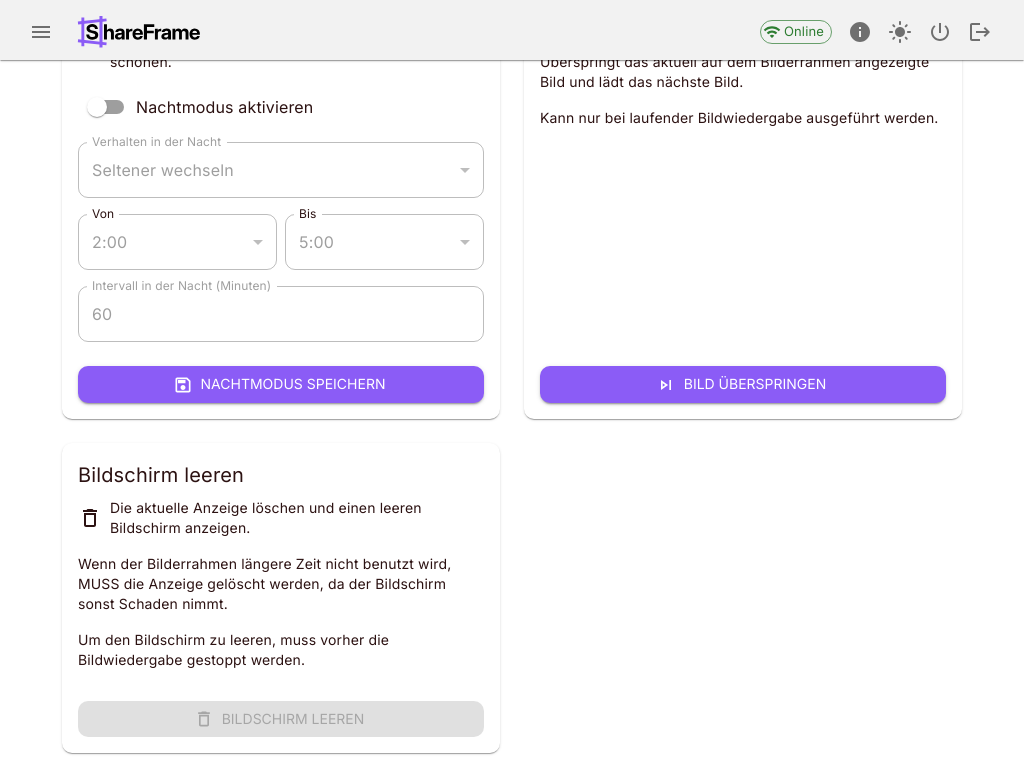
Test: frame actions › skips the current image
The image size is (1024, 768).
(page scrolled)
Click the button "Bild überspringen" at (743, 385), box [540,366,946,403]
(page scrolled)
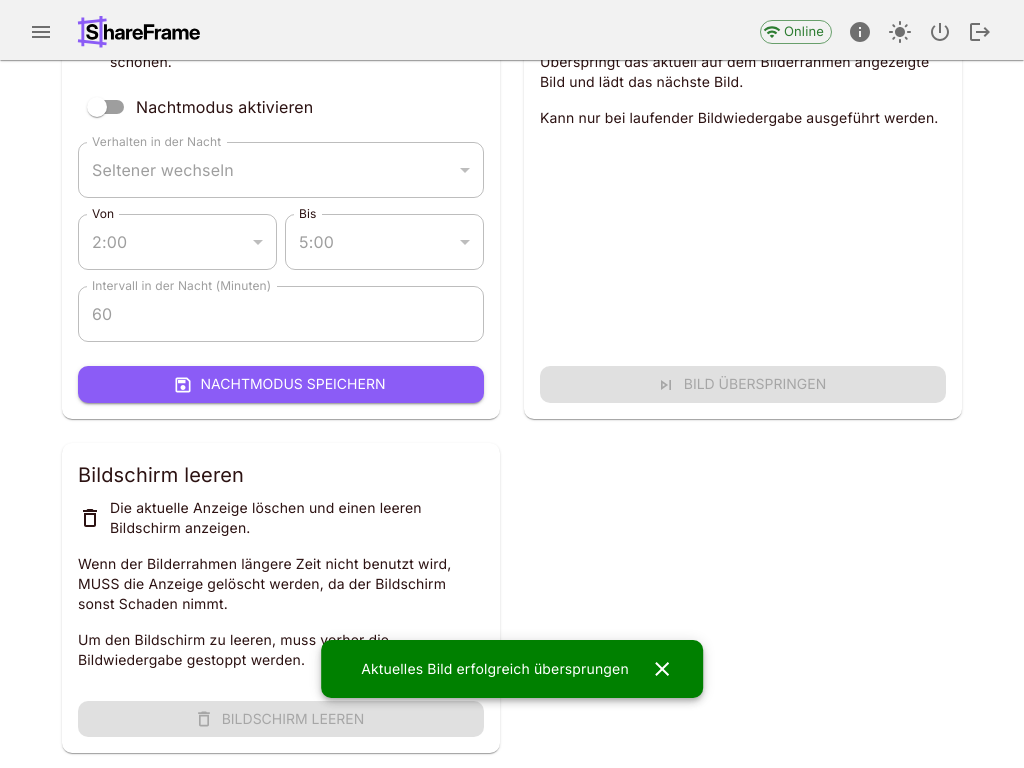
expect the heading "Aktuelles Bild erfolgreich übersprungen" is shown: met, box [361,658,629,680]
